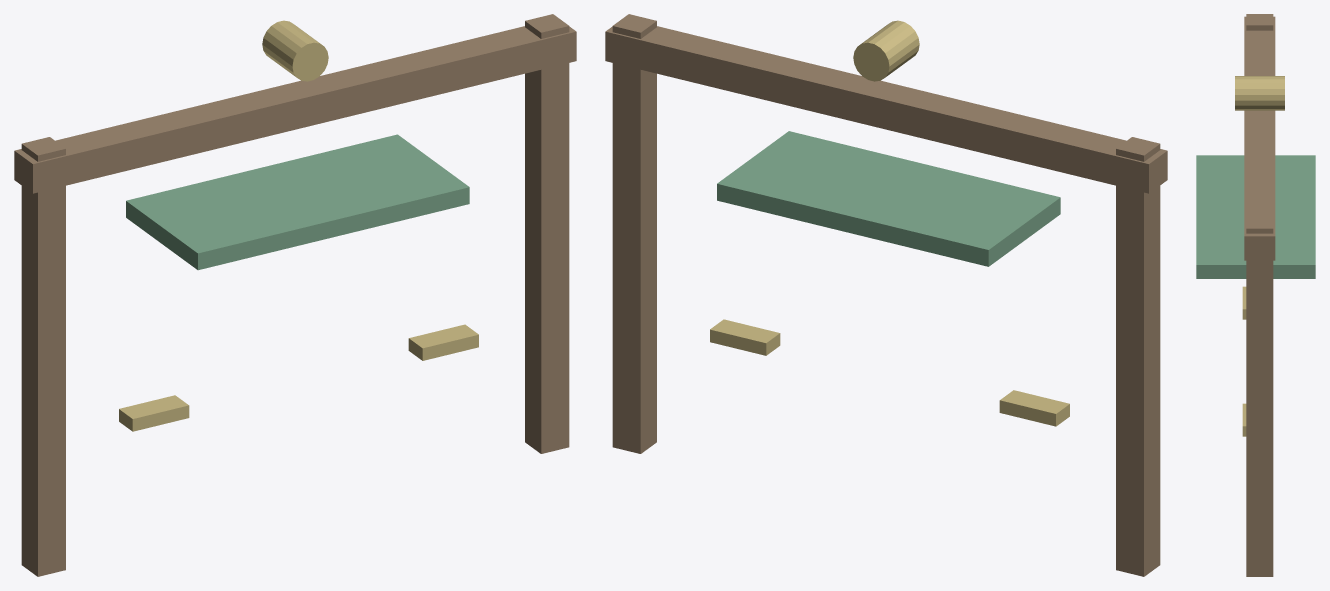
Rendered from tourism-gateway-high.glb.
3 views of the same model, side by side, from view 1: azimuth 30°, elevation 25°; view 2: azimuth 150°, elevation 25°; view 3: azimuth 270°, elevation 25° (orthographic). The views are drawn at different scales.
Visible parts, largest first — view 1: beam, sign, post--1.25, post-1.25, marker, guide--0.72, guide-0.72; view 2: beam, sign, post--1.25, post-1.25, marker, guide-0.72, guide--0.72; view 3: sign, post-1.25, beam, marker, post--1.25.
Part boxes in pixels (left/top/right/bottom): beam: left=14, top=26, right=576, bottom=193; sign: left=126, top=134, right=469, bottom=270; post--1.25: left=21, top=137, right=65, bottom=576; post-1.25: left=525, top=14, right=569, bottom=453; marker: left=262, top=20, right=328, bottom=81; guide--0.72: left=119, top=395, right=189, bottom=431; guide-0.72: left=408, top=324, right=478, bottom=360; beam: left=605, top=26, right=1167, bottom=193; sign: left=717, top=131, right=1060, bottom=266; post--1.25: left=1116, top=137, right=1160, bottom=576; post-1.25: left=612, top=14, right=656, bottom=453; marker: left=853, top=20, right=919, bottom=81; guide-0.72: left=710, top=319, right=780, bottom=355; guide--0.72: left=999, top=390, right=1069, bottom=426; sign: left=1196, top=155, right=1315, bottom=278; post-1.25: left=1246, top=217, right=1273, bottom=576; beam: left=1244, top=16, right=1275, bottom=260; marker: left=1235, top=76, right=1284, bottom=110; post--1.25: left=1246, top=14, right=1273, bottom=30.
Bounding box in the file's own units: 2.7 × 2.25 × 0.62.
